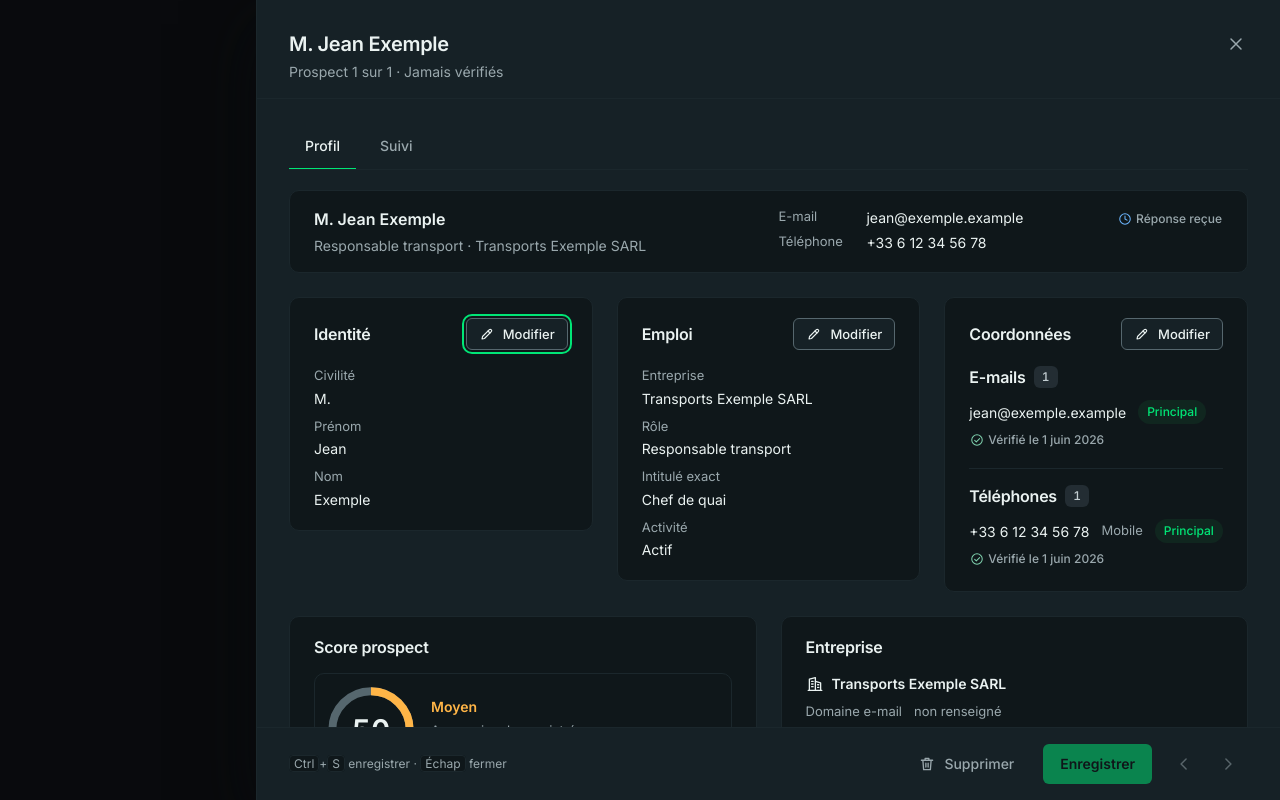
Test case: Prospect editor — Profil and Suivi tabs › flags the tab that still has an error when two tabs have one, and opens the first in edit
Expected: the element "Identité" is shown, left=289, top=297, right=593, bottom=530
Click the button with aria-label "Modifier : Identité" at (517, 334), box left=466, top=318, right=568, bottom=350
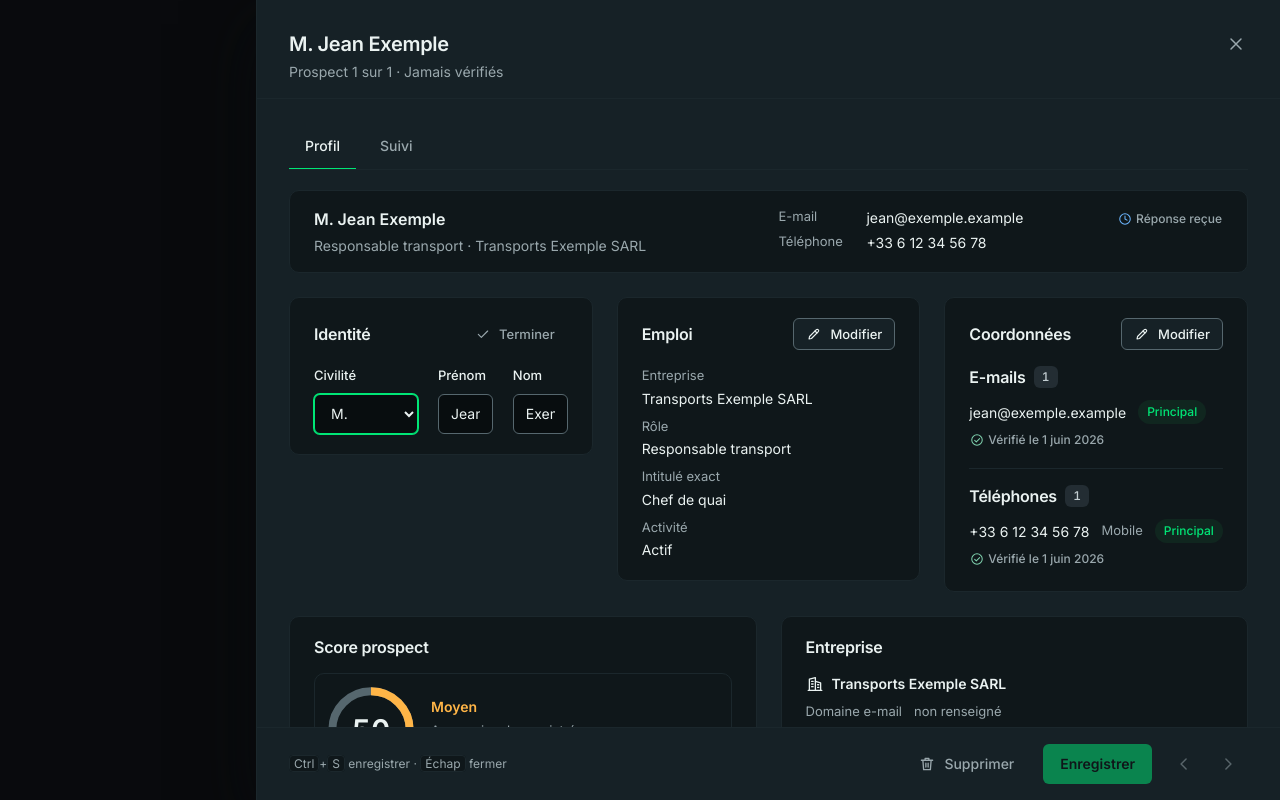
Clear the field labelled "Prénom" at (465, 414), box left=438, top=394, right=493, bottom=434
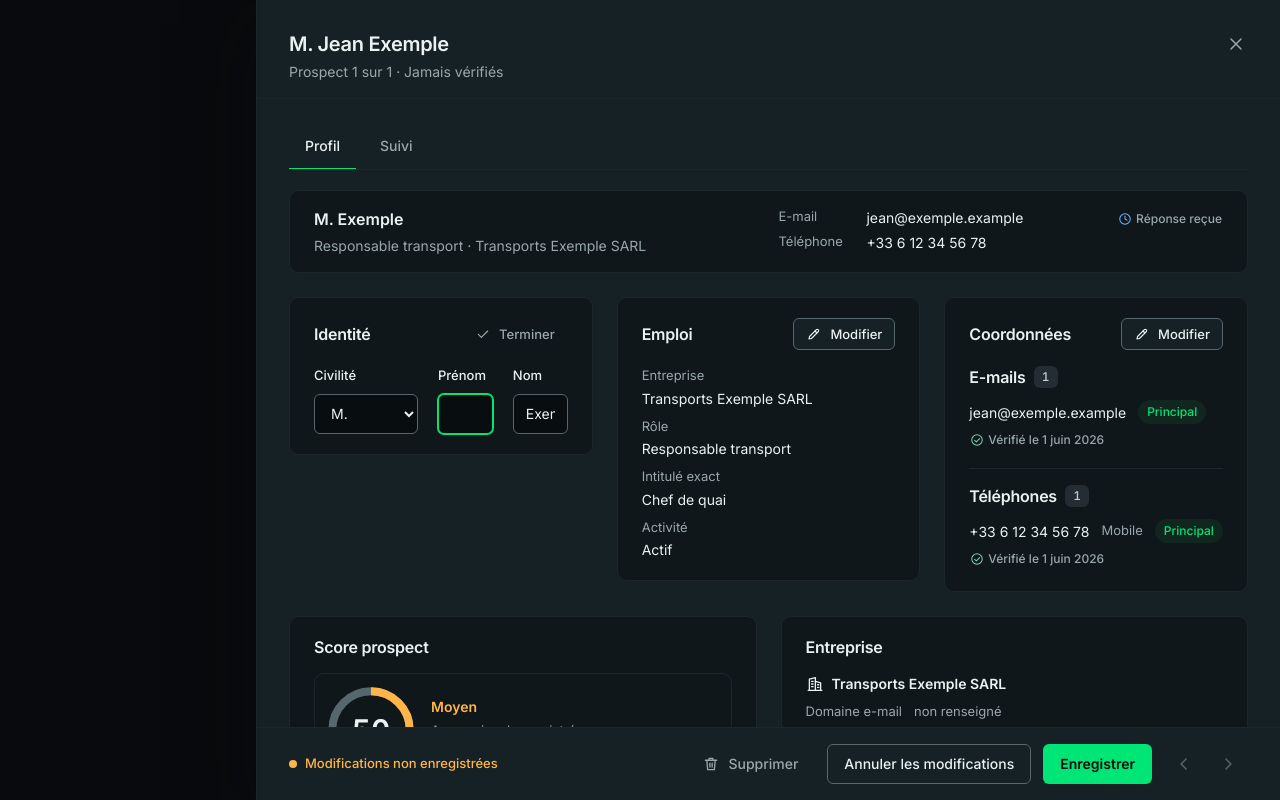
Clear the field labelled "Nom" at (540, 414), box left=513, top=394, right=568, bottom=434
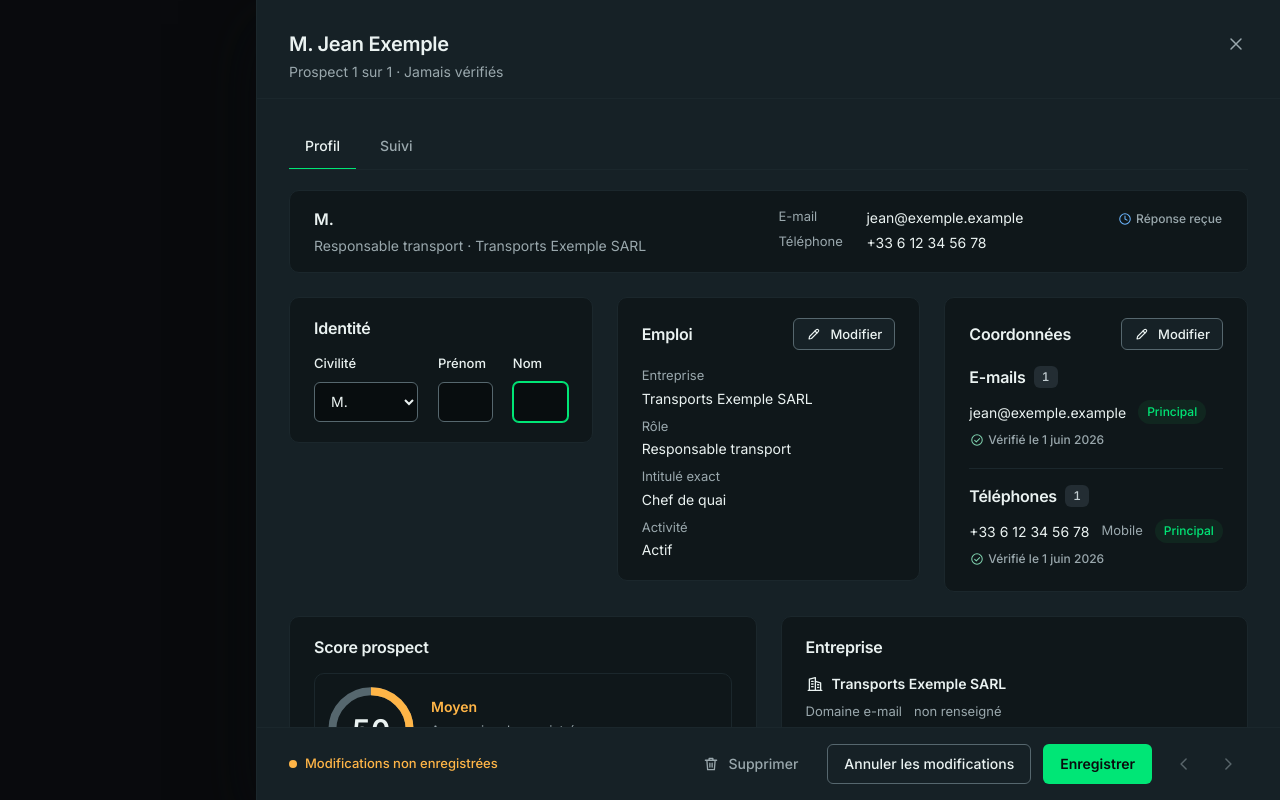
Click the tab "Suivi" at (396, 146), box left=364, top=123, right=429, bottom=170
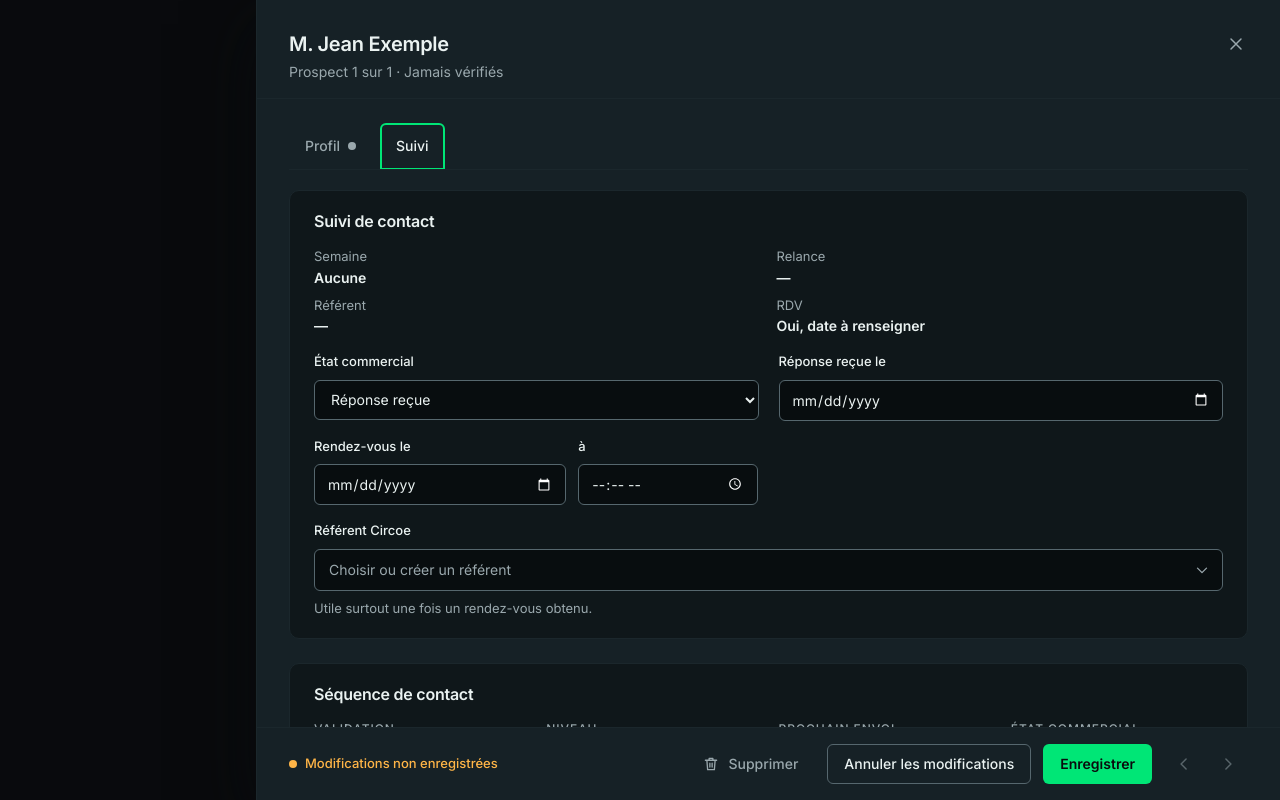
Type "10:30" into the time field labelled "à" at (668, 484), box left=578, top=464, right=758, bottom=505
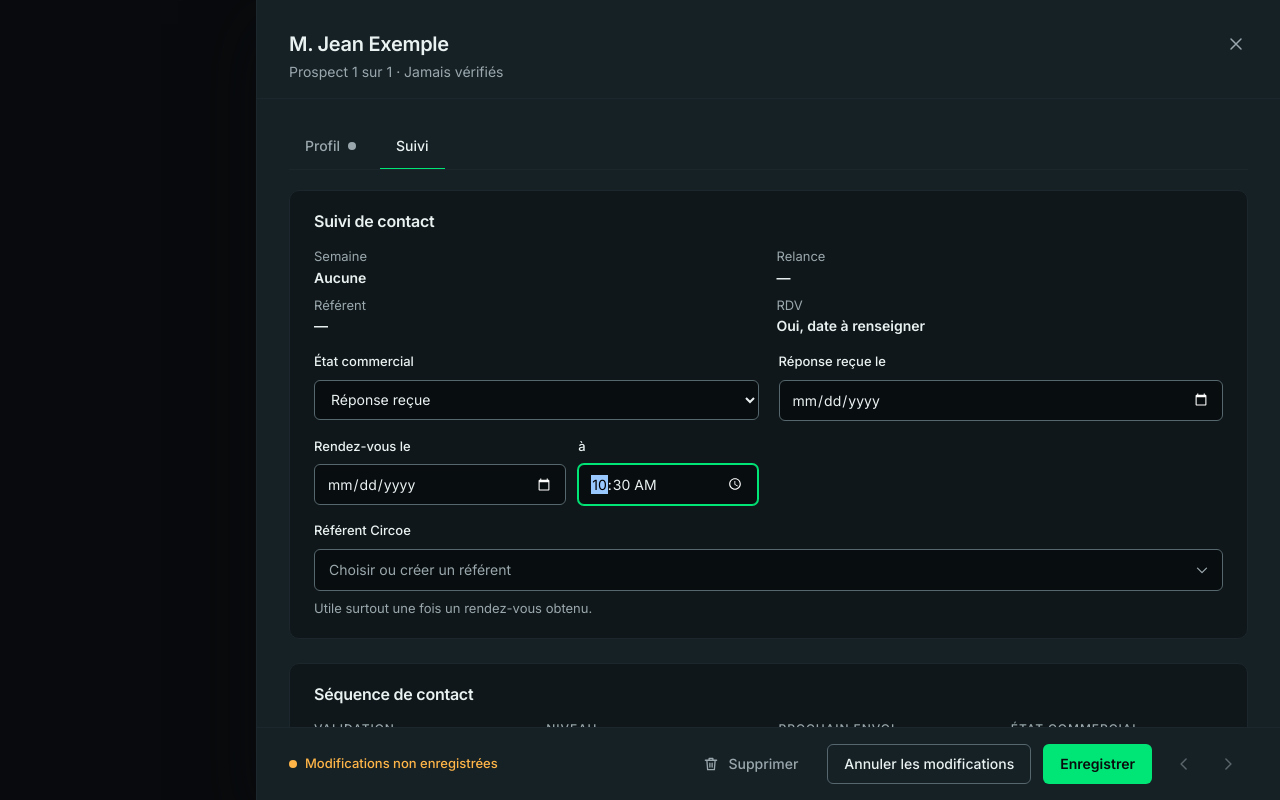
Click the button "Enregistrer" at (1098, 764), box left=1043, top=744, right=1152, bottom=784
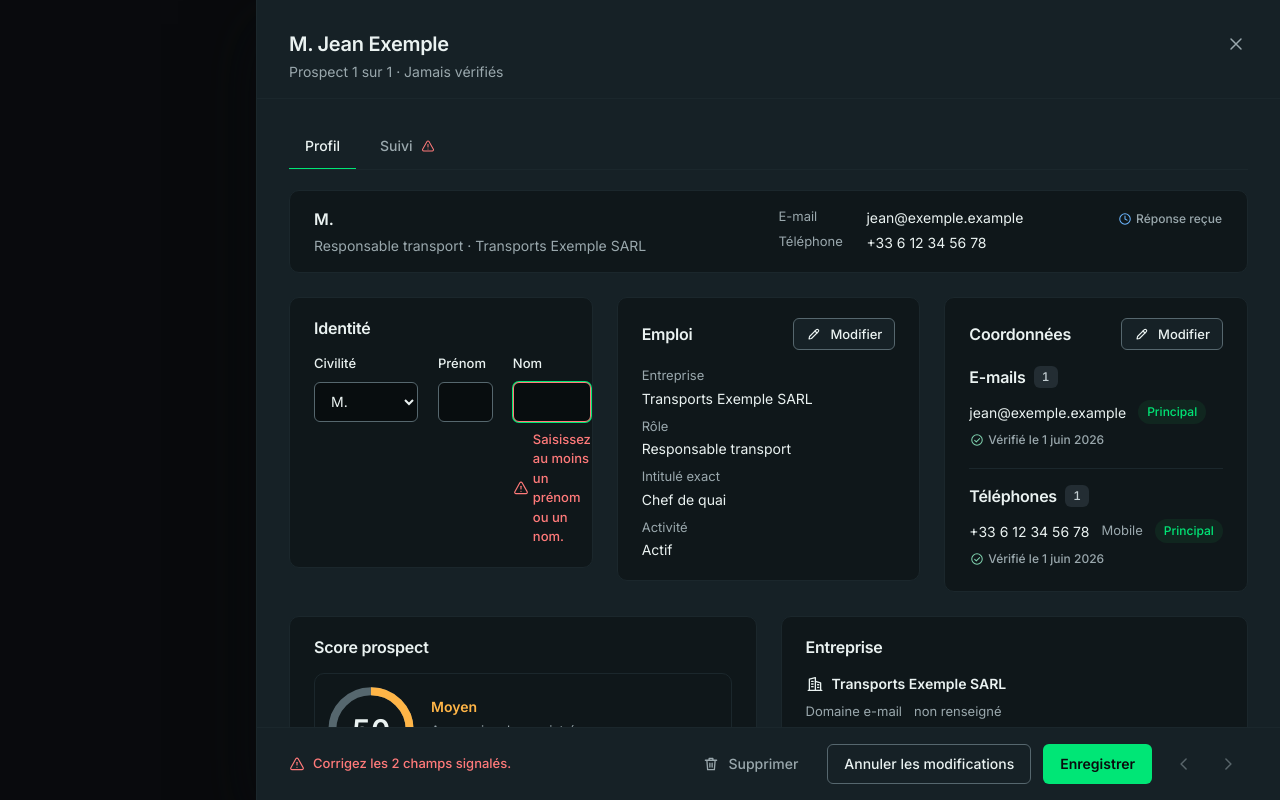
Expected: the tab "Suivi" is shown, left=364, top=123, right=451, bottom=170
Expected: the message named "Enregistrement de la fiche" reads "Corrigez les 2 champs signalés.", left=313, top=755, right=511, bottom=771
